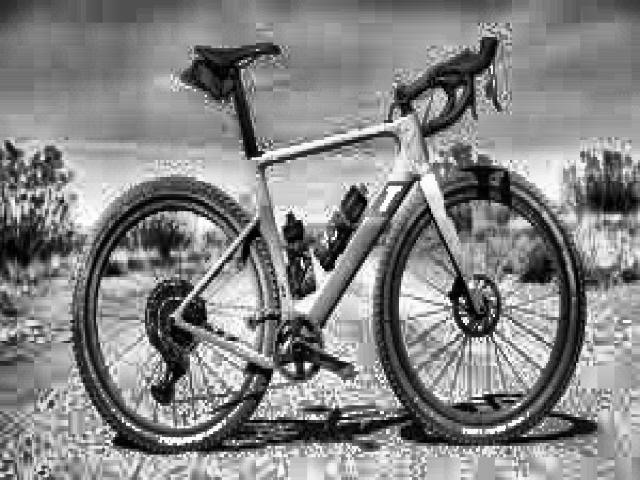cassette: (143, 278, 208, 360)
cranks_set: (272, 313, 356, 386)
rear_derailleur: (150, 329, 190, 406)
saddle: (193, 42, 283, 66)
sti_shifter: (480, 34, 507, 118)
wheel: (372, 164, 588, 447), (71, 176, 282, 458)
